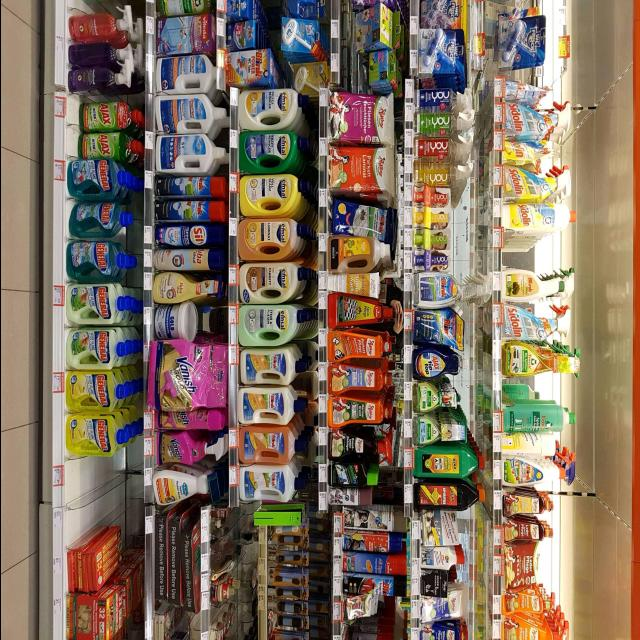empty_space: (65, 452, 127, 491), (67, 496, 124, 536), (503, 250, 545, 266)
